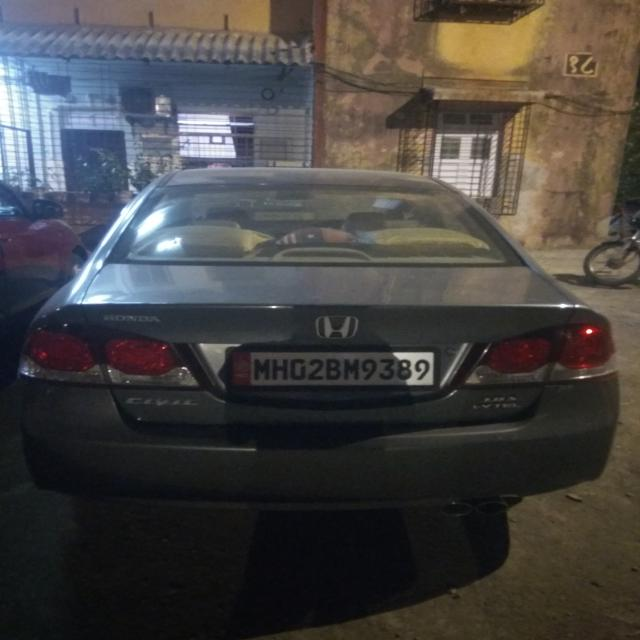Number-Plate: (243, 351, 438, 386)
